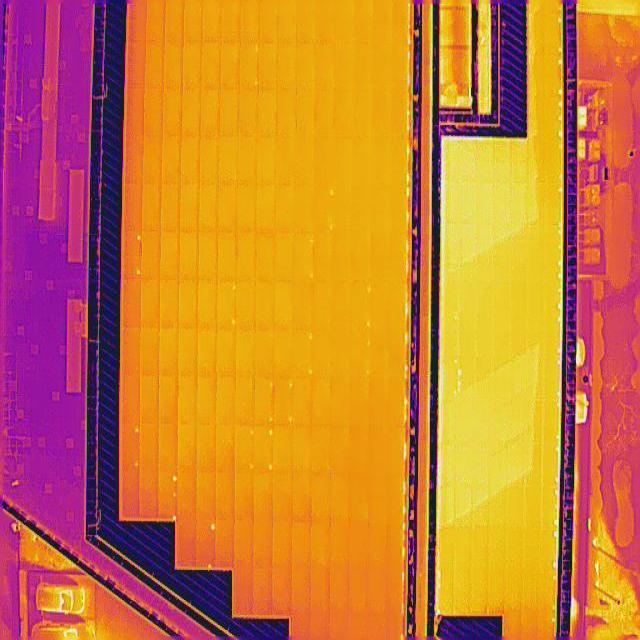Cell-Multi: (239, 40, 260, 91), (313, 185, 334, 234), (217, 279, 237, 329), (293, 234, 314, 281), (293, 329, 314, 376), (274, 378, 294, 427), (197, 520, 217, 569), (353, 279, 372, 329), (255, 376, 274, 426), (255, 423, 274, 472), (158, 470, 177, 519), (123, 230, 142, 278), (235, 425, 254, 473), (122, 422, 140, 472)
No-Anomaly: (314, 280, 335, 331), (201, 40, 222, 91), (333, 185, 354, 235), (144, 38, 165, 88), (293, 280, 314, 329), (235, 376, 256, 425), (348, 475, 369, 524), (315, 90, 336, 139), (349, 375, 369, 426), (293, 377, 313, 428), (163, 85, 183, 136), (365, 522, 387, 568), (349, 426, 370, 474), (234, 521, 255, 569), (257, 90, 278, 138), (256, 232, 276, 282), (238, 232, 258, 282), (179, 279, 199, 329), (236, 328, 256, 378), (217, 328, 237, 378), (158, 375, 178, 425), (235, 472, 255, 522), (273, 471, 293, 521), (177, 518, 197, 568), (311, 522, 331, 572), (182, 39, 202, 89), (335, 42, 355, 92), (316, 42, 336, 92), (219, 88, 239, 138), (277, 89, 297, 139), (275, 182, 294, 234), (365, 569, 386, 616), (162, 135, 182, 184), (219, 136, 239, 185), (372, 136, 392, 185), (160, 231, 180, 280), (236, 280, 256, 329), (178, 328, 198, 377), (177, 425, 197, 474), (215, 471, 235, 520), (273, 521, 293, 570), (278, 41, 298, 90), (259, 41, 279, 90), (313, 377, 332, 428), (197, 422, 216, 473), (346, 524, 368, 568), (314, 139, 335, 185), (314, 234, 335, 280), (334, 136, 354, 184), (276, 137, 296, 185), (218, 184, 238, 232), (179, 231, 199, 279), (197, 376, 217, 424), (330, 377, 350, 425), (196, 472, 216, 520), (220, 42, 240, 90), (354, 42, 374, 90), (143, 88, 163, 136), (335, 90, 355, 138), (257, 182, 276, 232), (352, 185, 371, 235), (160, 278, 179, 328), (141, 279, 160, 329), (333, 280, 352, 330), (274, 328, 293, 378), (255, 328, 274, 378), (254, 471, 273, 521), (312, 472, 331, 522), (239, 88, 258, 138), (296, 89, 315, 139), (160, 184, 180, 231), (139, 424, 159, 471), (158, 424, 178, 471), (200, 89, 220, 136), (200, 136, 219, 185), (294, 185, 313, 234), (218, 231, 237, 280), (178, 376, 197, 425), (254, 521, 273, 570), (292, 521, 311, 570), (374, 41, 393, 90), (181, 89, 200, 138), (143, 136, 163, 182), (257, 138, 277, 184), (329, 524, 349, 570), (273, 569, 293, 615), (371, 185, 389, 236), (124, 135, 143, 183), (181, 136, 200, 184), (239, 136, 258, 184), (124, 182, 143, 230), (142, 182, 161, 230), (199, 184, 218, 232), (238, 184, 257, 232), (142, 231, 161, 279), (199, 231, 218, 279), (160, 327, 179, 375), (140, 376, 159, 424), (216, 425, 235, 473), (274, 425, 293, 473), (330, 426, 349, 474), (139, 470, 158, 518), (177, 472, 196, 520), (126, 40, 145, 88), (374, 90, 393, 138), (275, 232, 293, 282), (199, 279, 217, 329), (388, 280, 406, 330), (293, 472, 311, 522), (235, 570, 255, 615), (181, 184, 200, 231), (141, 329, 160, 376), (163, 39, 182, 86), (297, 44, 316, 91), (354, 135, 372, 184), (388, 185, 406, 234), (371, 280, 389, 329), (122, 326, 140, 375), (386, 375, 404, 424), (368, 475, 386, 524), (126, 86, 144, 135), (295, 139, 314, 185), (256, 282, 275, 328), (313, 330, 332, 376), (312, 429, 331, 475), (354, 90, 373, 136), (275, 280, 293, 328), (368, 426, 386, 474), (239, 0, 260, 41), (292, 570, 311, 615), (384, 570, 403, 615), (124, 279, 141, 329), (369, 375, 386, 425), (349, 568, 366, 618), (199, 329, 217, 376), (385, 474, 403, 521), (297, 0, 317, 42), (350, 330, 370, 372), (335, 234, 354, 278), (371, 235, 390, 279), (383, 524, 402, 568), (311, 572, 330, 616), (123, 373, 140, 422), (331, 475, 348, 524), (216, 520, 233, 569), (293, 425, 311, 471), (254, 568, 272, 614), (330, 570, 348, 616), (259, 0, 279, 41), (386, 426, 403, 474), (122, 470, 139, 518), (217, 378, 235, 423), (336, 0, 355, 42), (353, 235, 372, 277), (183, 0, 202, 41), (278, 0, 297, 41), (374, 0, 393, 41), (370, 331, 388, 374), (392, 42, 408, 90), (146, 0, 165, 40), (202, 0, 221, 40), (355, 0, 373, 42), (317, 0, 335, 42), (387, 330, 405, 372), (333, 332, 350, 376), (221, 0, 239, 41), (392, 138, 407, 186), (128, 0, 146, 40), (165, 0, 183, 40), (390, 235, 406, 280), (392, 0, 409, 41), (393, 91, 407, 135)
